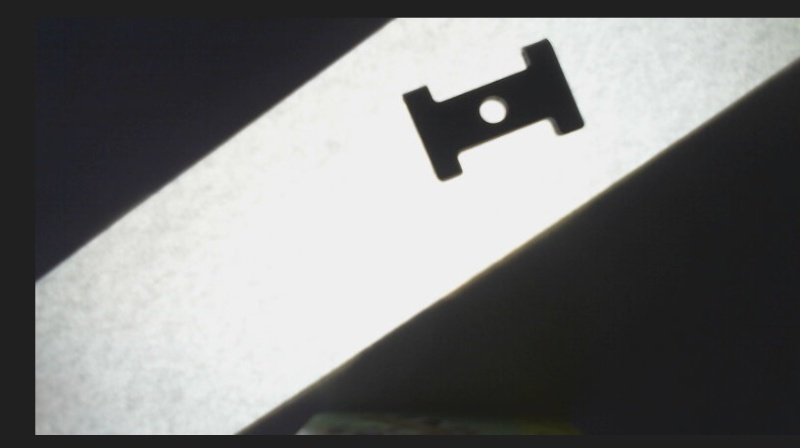O002: (398, 36, 589, 186)
